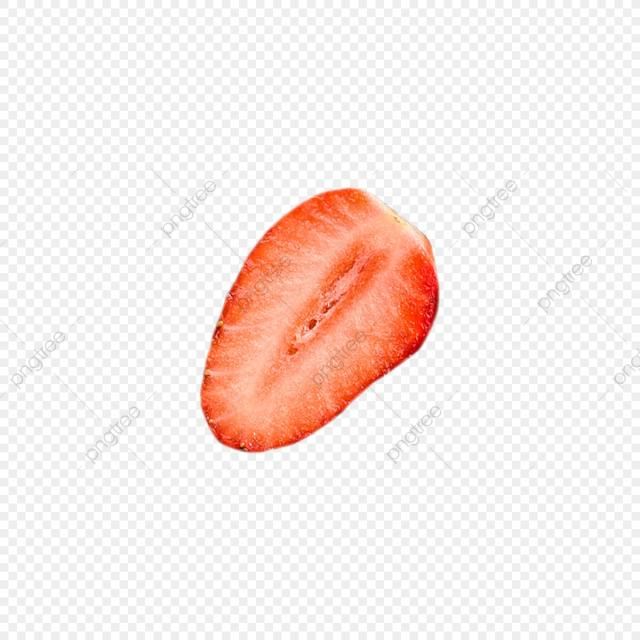strawberry: (178, 170, 456, 466)
